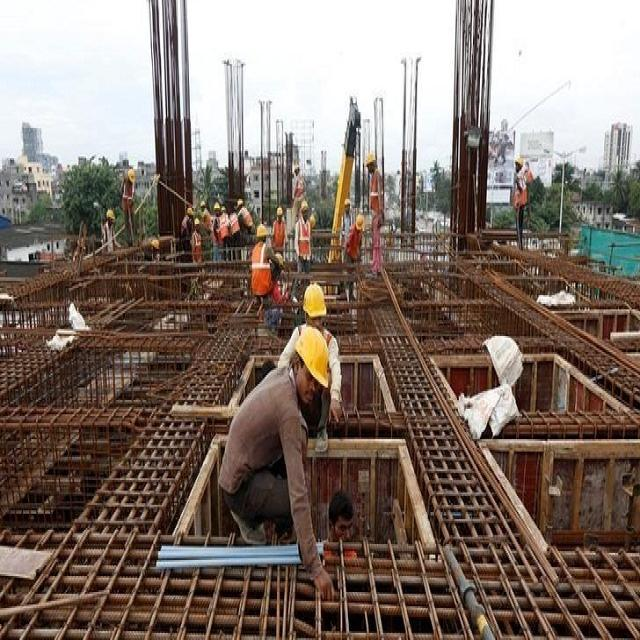helmet: (295, 324, 331, 388), (302, 282, 328, 318), (356, 214, 366, 230), (365, 152, 375, 165), (105, 208, 115, 220), (129, 166, 136, 182)
vest: (250, 239, 276, 298), (296, 214, 314, 260)
